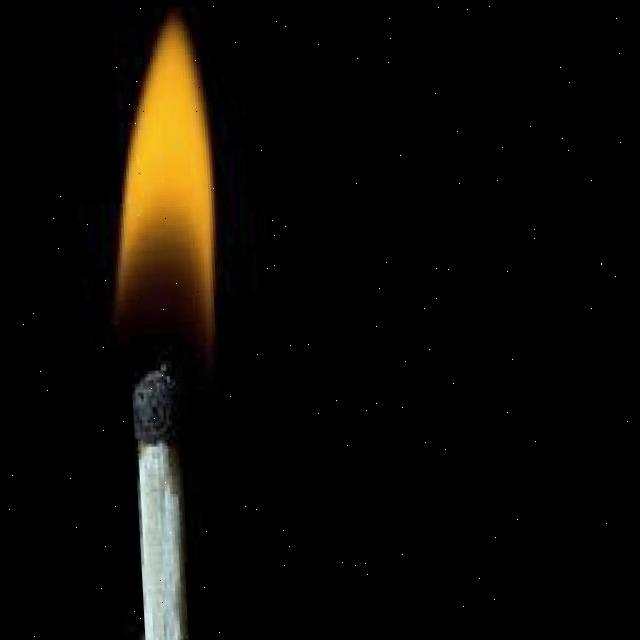fire: (93, 12, 233, 376)
